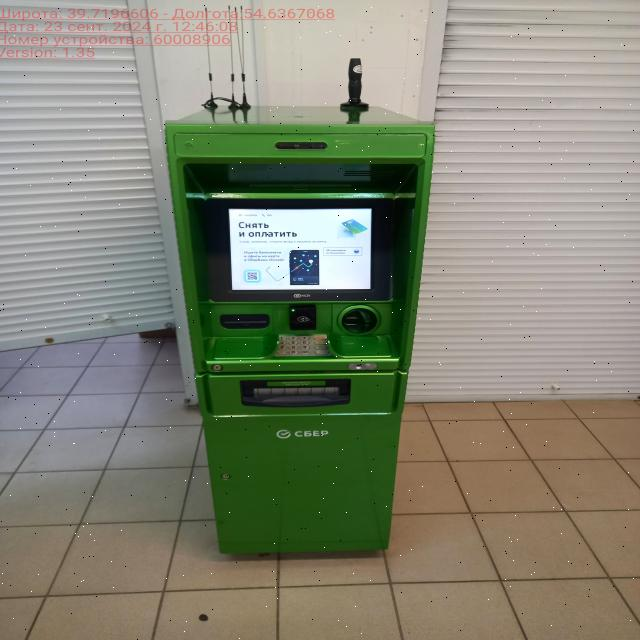bank: (162, 96, 433, 562)
